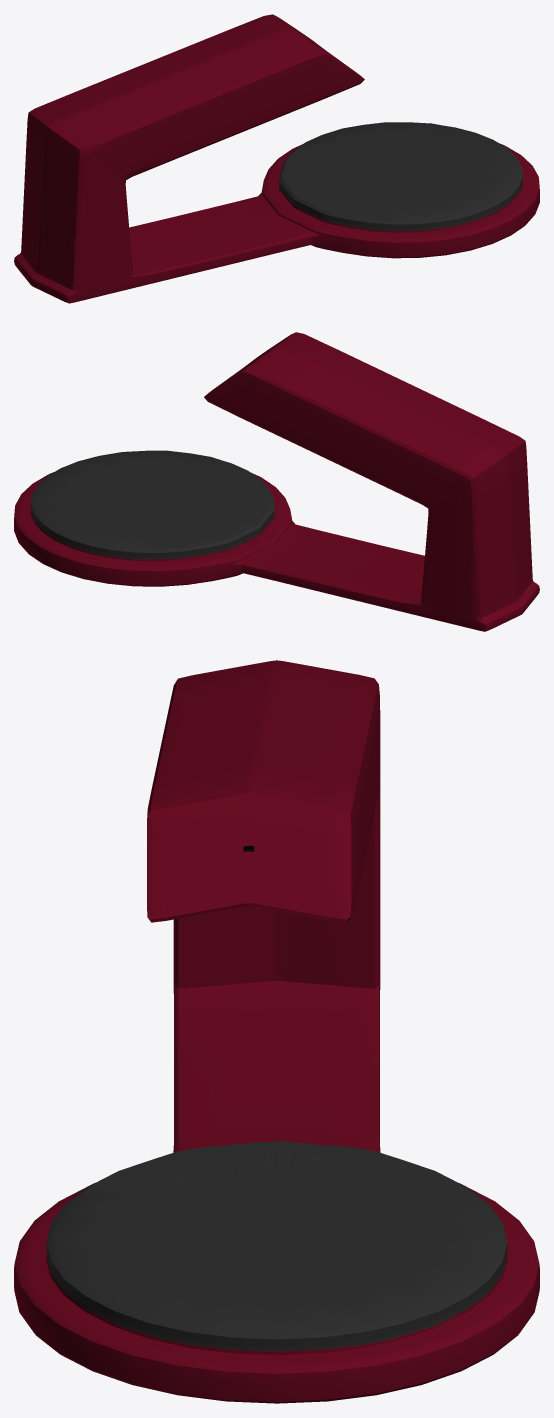
Rendered from DP_Controller.fbx.
3 renders of one model, top to bottom at view 1: azimuth 30°, elevation 25°; view 2: azimuth 150°, elevation 25°; view 3: azimuth 270°, elevation 25°, orthographic. The views are drawn at different scales.
Parts seen in each view (by area): view 1: DP_ControlPanel; view 2: DP_ControlPanel; view 3: DP_ControlPanel.
Part boxes in pixels (x1,y1,x2,y2): DP_ControlPanel: [14, 14, 539, 303]; DP_ControlPanel: [14, 332, 539, 631]; DP_ControlPanel: [14, 660, 539, 1403].
Size of the model in its own units: 59.46 by 23.93 by 29.04.
1 material, 1 textured.
